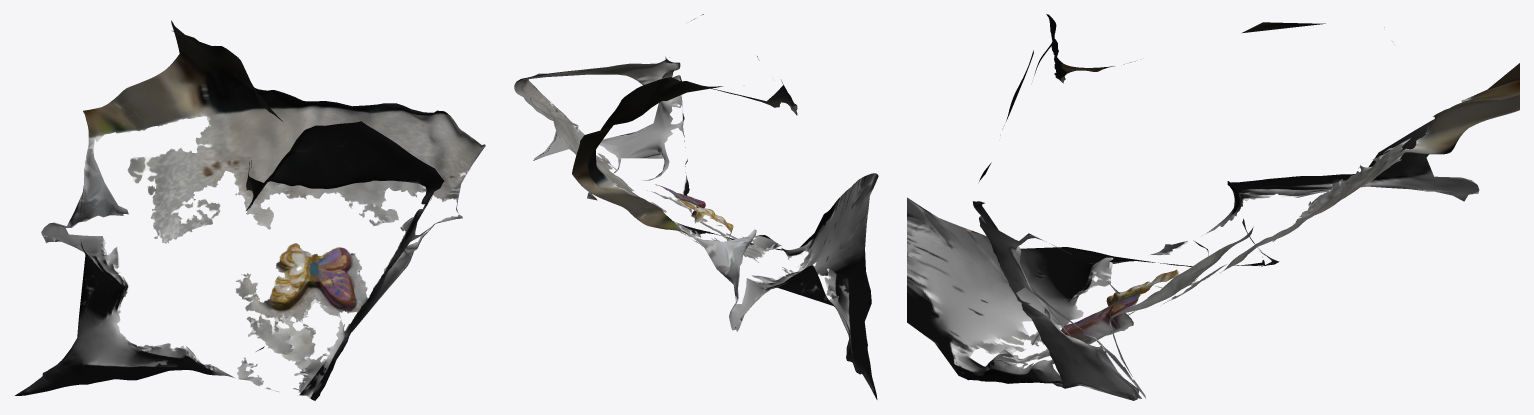
3 renders of one model, left to right at view 1: azimuth 30°, elevation 25°; view 2: azimuth 150°, elevation 25°; view 3: azimuth 270°, elevation 25°, orthographic. The views are drawn at different scales.
Size of the model in its own units: 1.35 by 0.8459 by 1.12.
Materials: 1 (1 with a texture image).
